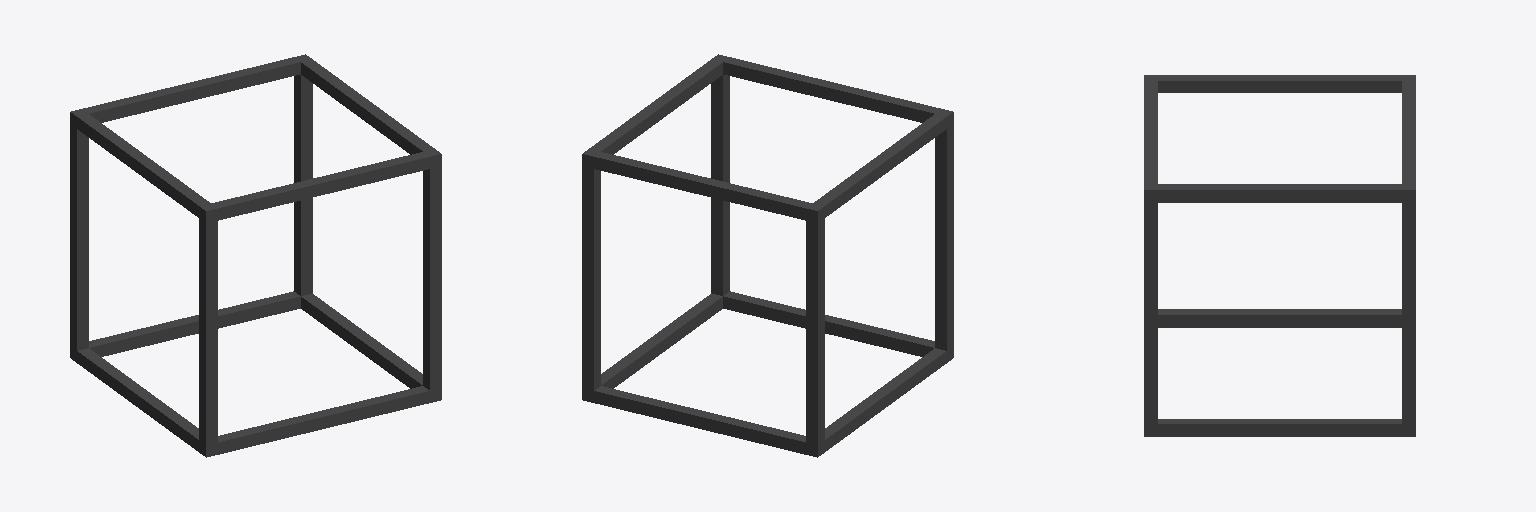
3 views of the same model, side by side, from view 1: azimuth 30°, elevation 25°; view 2: azimuth 150°, elevation 25°; view 3: azimuth 270°, elevation 25° (orthographic).
Size of the model in its own units: 20 by 20 by 20.
Materials: 1 (1 with a texture image).